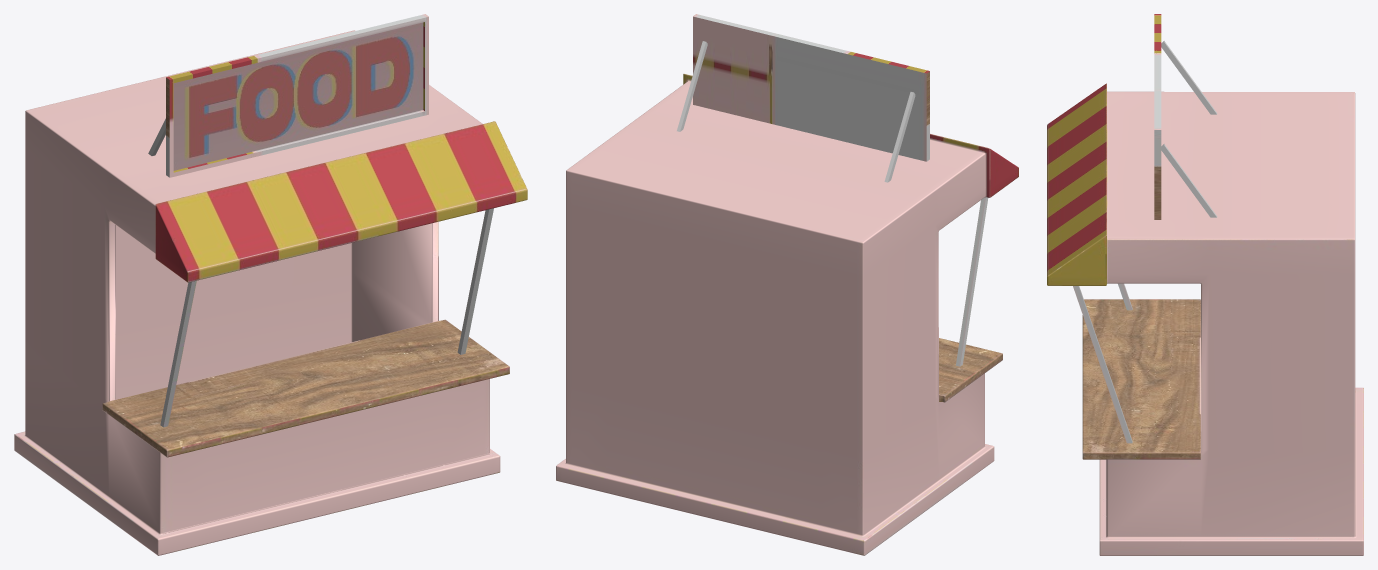
Rendered from BUILDING_FastFood_1.fbx.
3 views of the same model, side by side, from view 1: azimuth 30°, elevation 25°; view 2: azimuth 150°, elevation 25°; view 3: azimuth 270°, elevation 25° (orthographic). The views are drawn at different scales.
Visible parts, largest first — view 1: BUILDING_FastFood_1_Baked; view 2: BUILDING_FastFood_1_Baked; view 3: BUILDING_FastFood_1_Baked.
Part boxes in pixels (x1,y1,x2,y2): BUILDING_FastFood_1_Baked: (14, 14, 527, 555); BUILDING_FastFood_1_Baked: (556, 14, 1018, 555); BUILDING_FastFood_1_Baked: (1047, 14, 1363, 555).
Bounding box in the file's own units: 56 × 69.23 × 48.78.
Materials: 1 (1 with a texture image).
